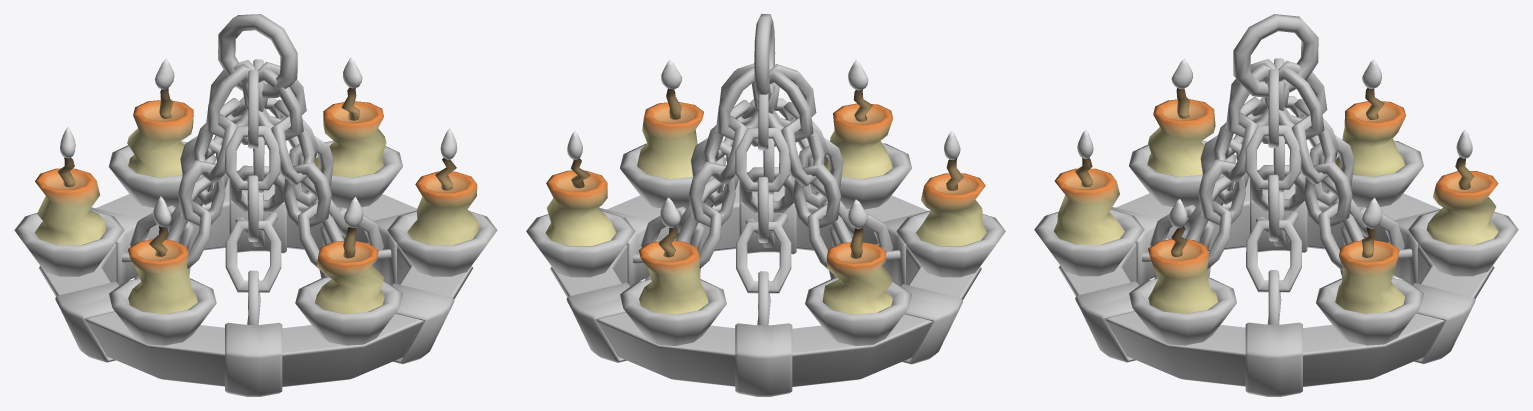
Rendered from chandolier_bronze.fbx.
3 views of the same model, side by side, from view 1: azimuth 30°, elevation 25°; view 2: azimuth 150°, elevation 25°; view 3: azimuth 270°, elevation 25° (orthographic).
Visible parts, largest first — view 1: base, fire.004, hoop.001, fire.002, fire.001, fire.005, fire.003, fire, candle_holder.013, candle_holder, candle_holder.009, candle_holder.012 (+35 smaller); view 2: base, hoop.003, fire, fire.004, fire.005, fire.003, fire.001, fire.002, candle_holder.011, candle_holder.012, candle_holder.013, candle_holder.010 (+37 smaller); view 3: base, hoop.005, fire.002, fire.003, fire.001, fire.005, fire, fire.004, candle_holder.010, candle_holder.009, candle_holder, candle_holder.011 (+35 smaller).
Boxes of the visible parts, left/top/right/bottom form: base: left=39, top=178, right=472, bottom=386; fire.004: left=34, top=168, right=106, bottom=244; hoop.001: left=225, top=322, right=282, bottom=396; fire.002: left=315, top=241, right=384, bottom=313; fire.001: left=407, top=171, right=479, bottom=244; fire.005: left=128, top=239, right=197, bottom=313; fire.003: left=127, top=100, right=193, bottom=177; fire: left=314, top=101, right=386, bottom=177; candle_holder.013: left=109, top=278, right=216, bottom=345; candle_holder: left=295, top=277, right=402, bottom=345; candle_holder.009: left=387, top=211, right=497, bottom=276; candle_holder.012: left=14, top=209, right=124, bottom=276; base: left=550, top=180, right=981, bottom=387; hoop.003: left=735, top=323, right=792, bottom=396; fire: left=545, top=170, right=616, bottom=245; fire.004: left=822, top=242, right=892, bottom=314; fire.005: left=916, top=173, right=986, bottom=245; fire.003: left=639, top=240, right=708, bottom=314; fire.001: left=637, top=102, right=703, bottom=178; fire.002: left=824, top=103, right=893, bottom=178; candle_holder.011: left=620, top=279, right=726, bottom=345; candle_holder.012: left=805, top=278, right=911, bottom=345; candle_holder.013: left=896, top=210, right=1005, bottom=277; candle_holder.010: left=526, top=210, right=635, bottom=277; base: left=1058, top=177, right=1494, bottom=386; hoop.005: left=1245, top=322, right=1302, bottom=396; fire.002: left=1053, top=168, right=1124, bottom=244; fire.003: left=1426, top=171, right=1498, bottom=244; fire.001: left=1148, top=239, right=1217, bottom=313; fire.005: left=1147, top=99, right=1215, bottom=176; fire: left=1335, top=240, right=1404, bottom=313; fire.004: left=1335, top=101, right=1405, bottom=176; candle_holder.010: left=1316, top=278, right=1423, bottom=345; candle_holder.009: left=1129, top=277, right=1236, bottom=345; candle_holder: left=1034, top=209, right=1144, bottom=276; candle_holder.011: left=1408, top=209, right=1518, bottom=276.
Size of the model in its own units: 2493 by 1859 by 2723.
